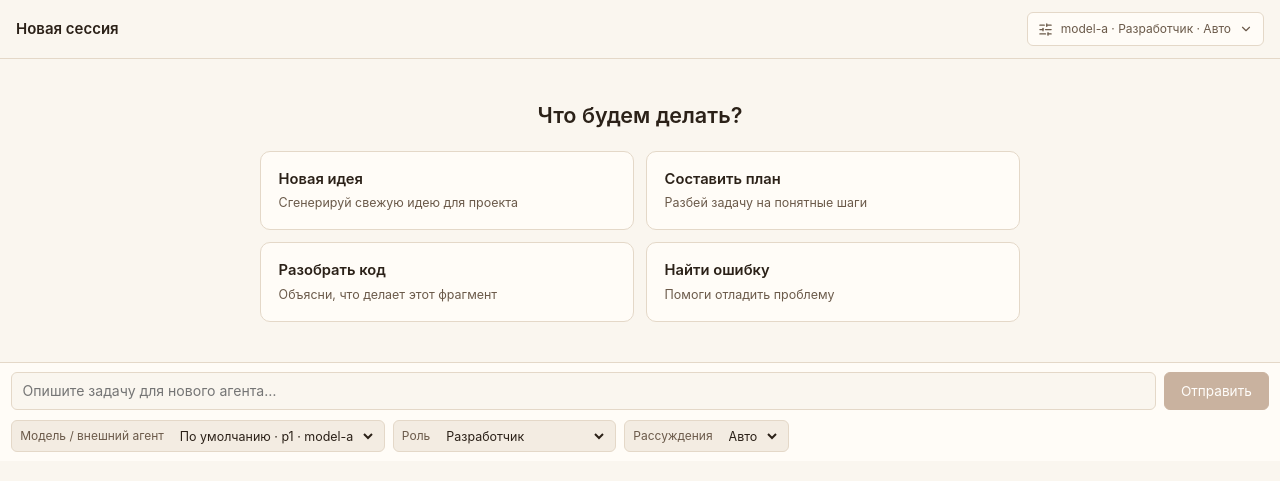
Scenario: HomeView Lifetime Invariants › restores the draft and shows the error when createSession fails in the current context
The image size is (1280, 481).
Type "важный черновик" into the text box with test id "composer-input" at [584, 391], box [11,372,1156,410]
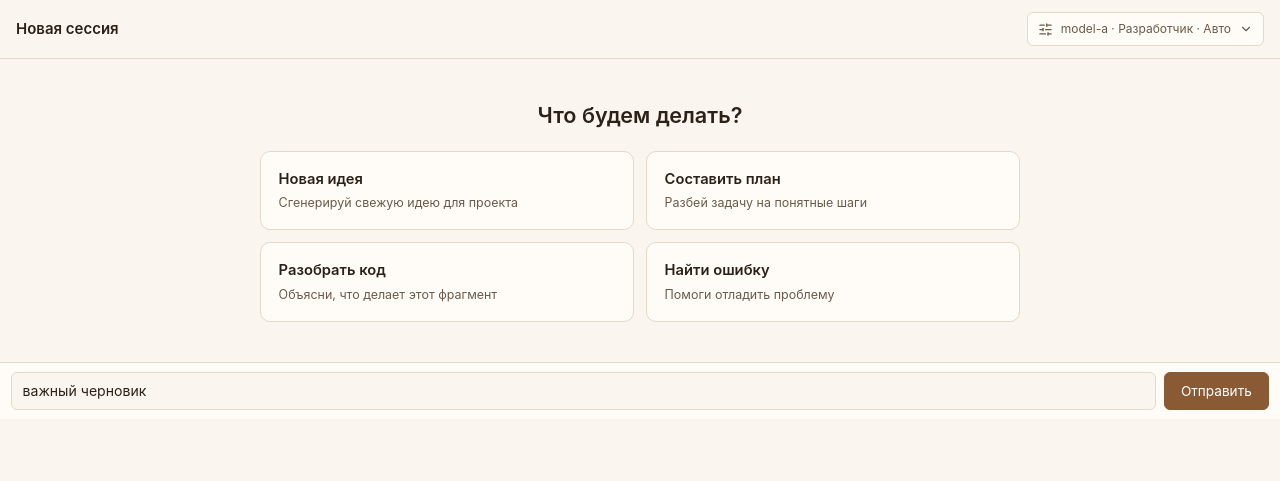
Press Enter in the text box with test id "composer-input", box [11,372,1156,410]
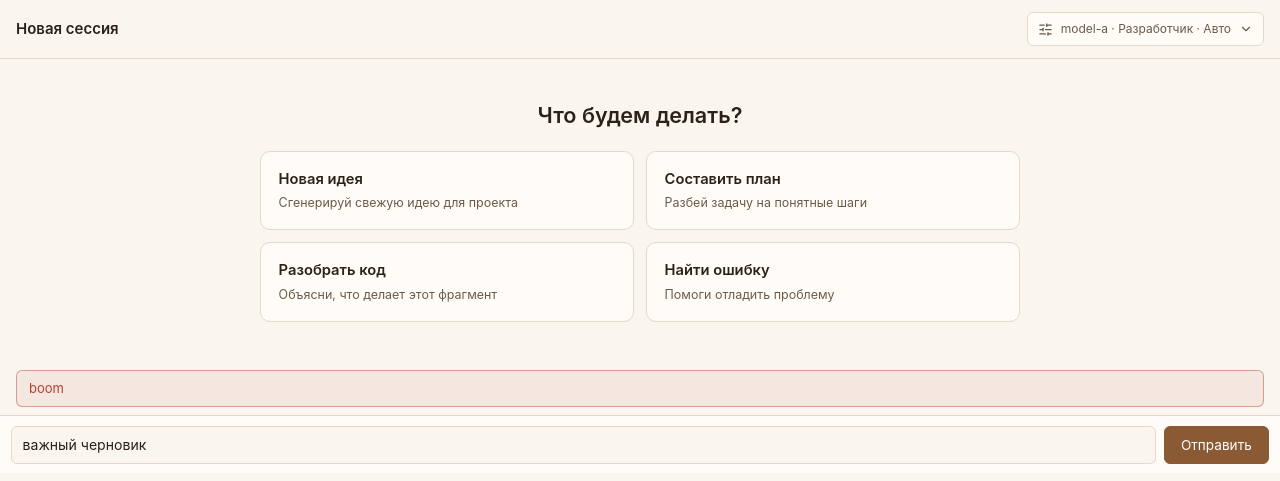
Expected: the button with test id "composer-send" is enabled, [1164,426,1269,464]
Expected: the text with test id "home-error" reads "boom", [29,380,64,396]
